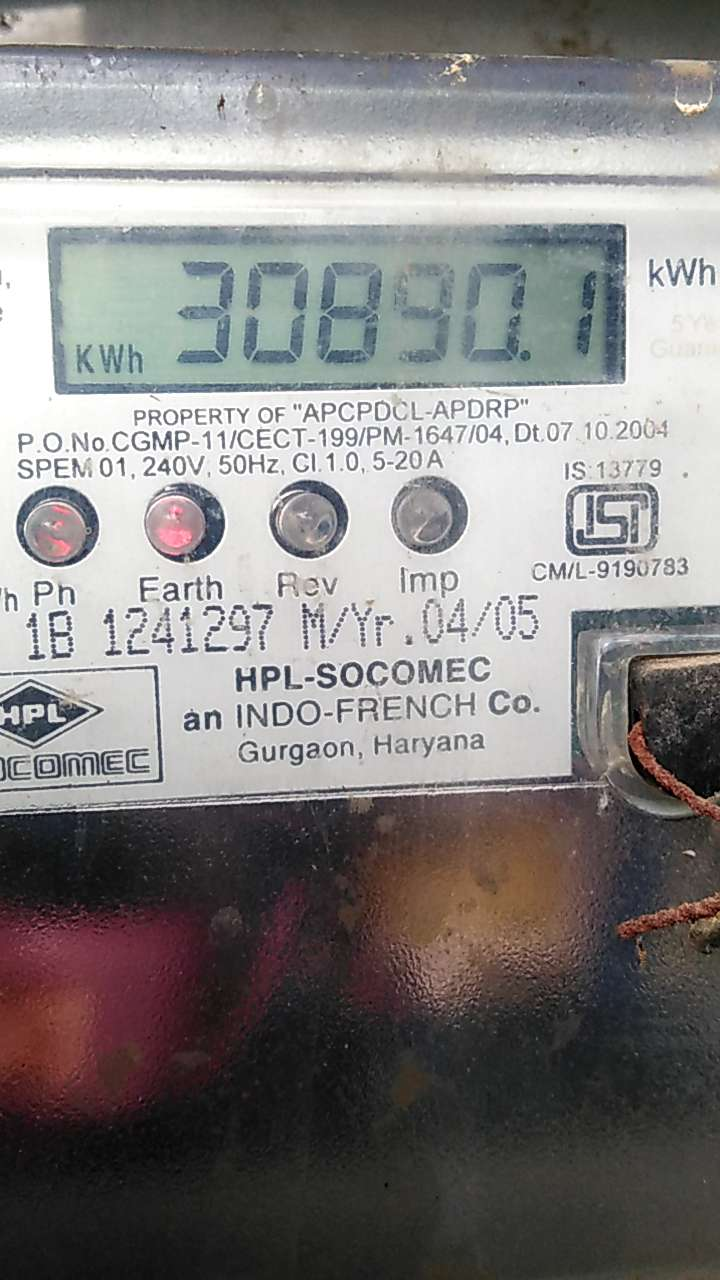meter_serial_number: (92, 599, 288, 657)
